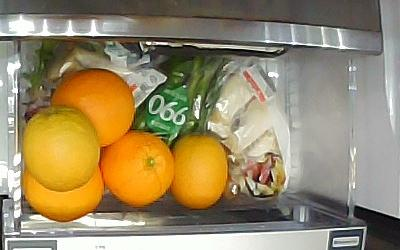orange: (53, 69, 135, 150), (25, 105, 99, 193), (102, 130, 174, 207), (21, 165, 103, 222), (171, 134, 227, 207)
